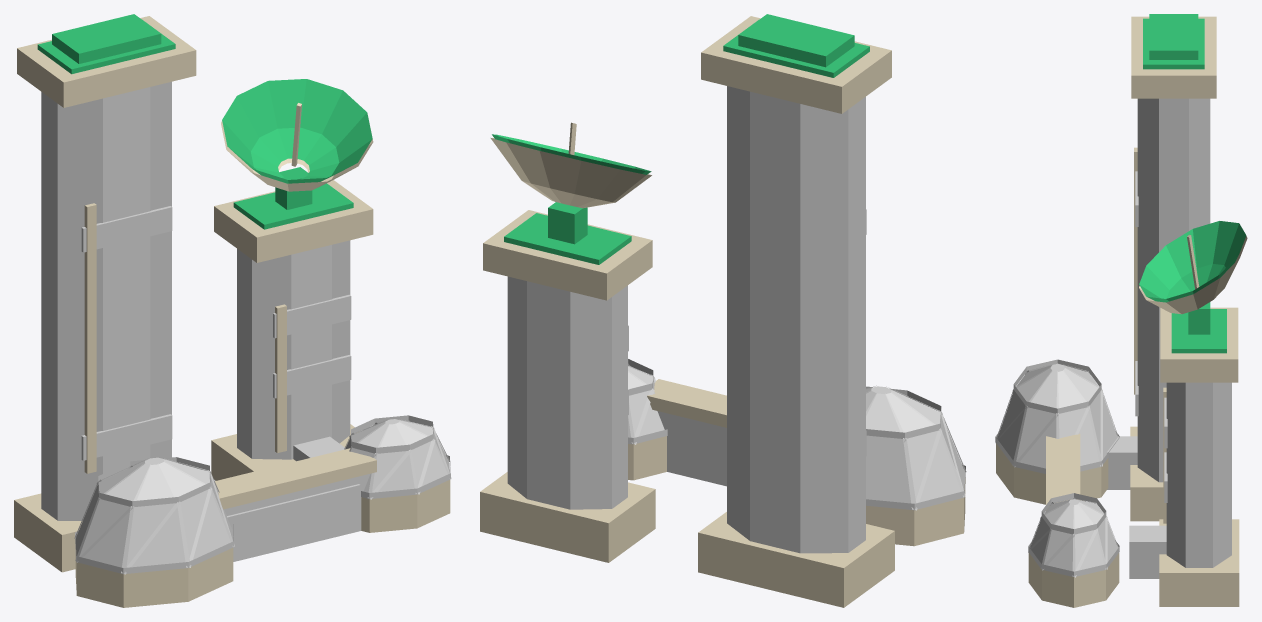
Rendered from space_capital_academy.glb.
The picture shows the model from 3 angles, left to right: view 1: azimuth 30°, elevation 25°; view 2: azimuth 150°, elevation 25°; view 3: azimuth 270°, elevation 25°; orthographic projection. The views are drawn at different scales.
Parts seen in each view (by area): view 1: WoodBody, FixedDetails, BrassTrim; view 2: WoodBody, FixedDetails, BrassTrim; view 3: WoodBody, FixedDetails, BrassTrim.
Boxes of the visible parts, box(x1,y1,x2,y2) form: WoodBody: box(41, 81, 451, 574); FixedDetails: box(14, 16, 450, 607); BrassTrim: box(37, 14, 372, 229); WoodBody: box(507, 86, 966, 553); FixedDetails: box(480, 16, 965, 607); BrassTrim: box(492, 14, 869, 264); WoodBody: box(995, 98, 1231, 578); FixedDetails: box(996, 16, 1247, 607); BrassTrim: box(1139, 14, 1246, 353).
Bounding box in the file's own units: 0.3973 × 0.4996 × 0.249.
